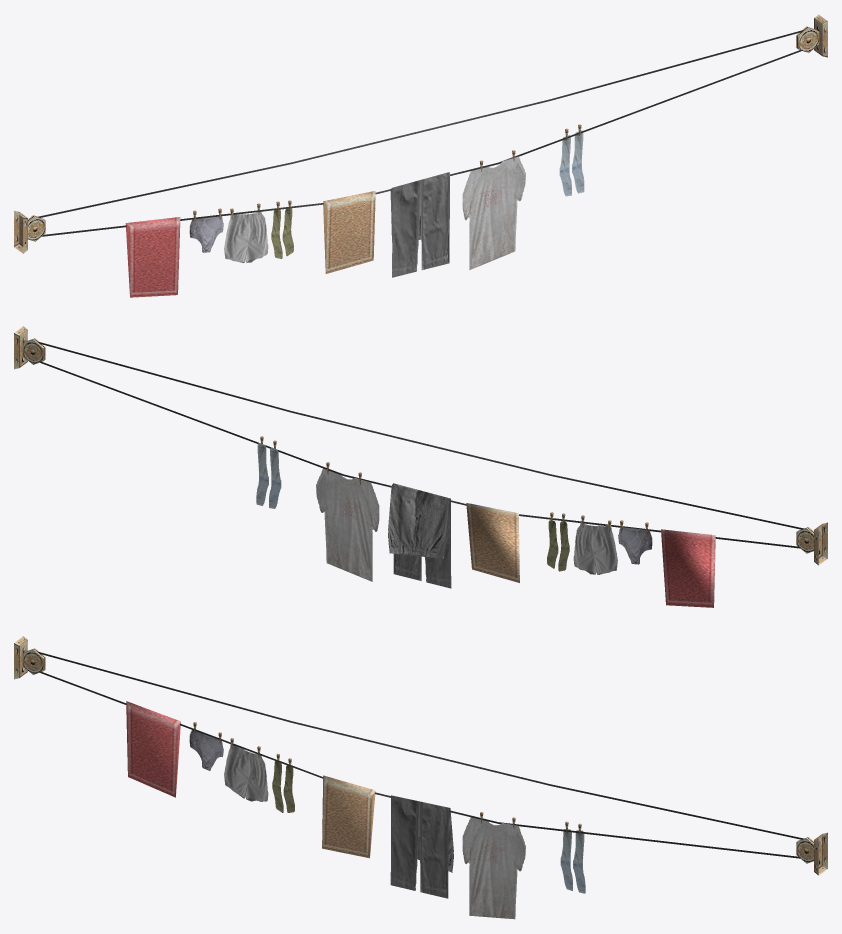
File: clothesline5m_02.fbx
The picture shows the model from 3 angles, top to bottom: view 1: azimuth 30°, elevation 25°; view 2: azimuth 150°, elevation 25°; view 3: azimuth 330°, elevation 25°; orthographic projection.
Visible parts, largest first — view 1: mesh_0; view 2: mesh_0; view 3: mesh_0.
Boxes of the visible parts, x1=… form: mesh_0: x1=14, y1=14, x2=827, y2=297; mesh_0: x1=14, y1=326, x2=827, y2=607; mesh_0: x1=14, y1=636, x2=827, y2=919.
Size of the model in its own units: 500 by 99.4 by 10.
1 material, 1 textured.
